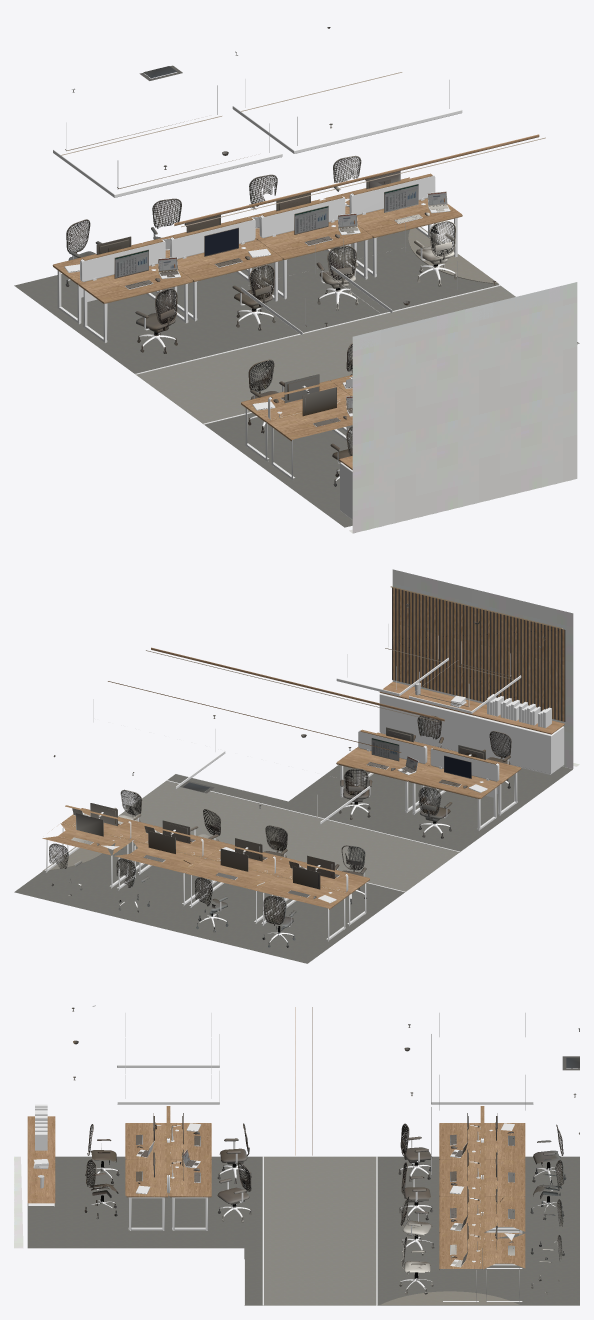
File: z-open_e-lite.full.d72dd51c.glb
3 renders of one model, top to bottom at view 1: azimuth 30°, elevation 25°; view 2: azimuth 150°, elevation 25°; view 3: azimuth 270°, elevation 25°, orthographic. The views are drawn at different scales.
Visible parts, largest first — view 1: open_e_plaster, open_e_carpet, open_e_fx, open_e_oak, open_e_satin, open_e_emit, open_e_metal_lit; view 2: open_e_carpet, open_e_proxy_slat, open_e_satin, open_e_oak, open_e_fx, open_e_plaster, open_e_emit, open_e_metal_lit; view 3: open_e_carpet, open_e_oak, open_e_fx, open_e_satin, open_e_metal_lit, open_e_plaster.
Boxes of the visible parts, x1,y1,x2,y2 form: open_e_plaster: [349, 282, 577, 533]; open_e_carpet: [14, 204, 579, 527]; open_e_fx: [65, 27, 495, 486]; open_e_oak: [52, 134, 539, 469]; open_e_satin: [53, 79, 500, 519]; open_e_emit: [61, 72, 545, 408]; open_e_metal_lit: [64, 191, 579, 480]; open_e_carpet: [14, 765, 572, 963]; open_e_proxy_slat: [392, 587, 565, 721]; open_e_satin: [45, 624, 564, 941]; open_e_oak: [42, 647, 564, 909]; open_e_fx: [49, 603, 545, 947]; open_e_plaster: [392, 569, 579, 768]; open_e_emit: [146, 586, 562, 817]; open_e_metal_lit: [74, 744, 508, 942]; open_e_carpet: [27, 1156, 579, 1305]; open_e_oak: [27, 1007, 525, 1269]; open_e_fx: [72, 1007, 579, 1294]; open_e_satin: [28, 1005, 533, 1305]; open_e_metal_lit: [91, 1123, 558, 1305]; open_e_plaster: [14, 1156, 23, 1248].
Size of the model in its own units: 6.5 by 3.35 by 10.45.
Materials: 9 (6 with a texture image).
